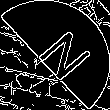N_SW: (22, 23, 88, 87)
